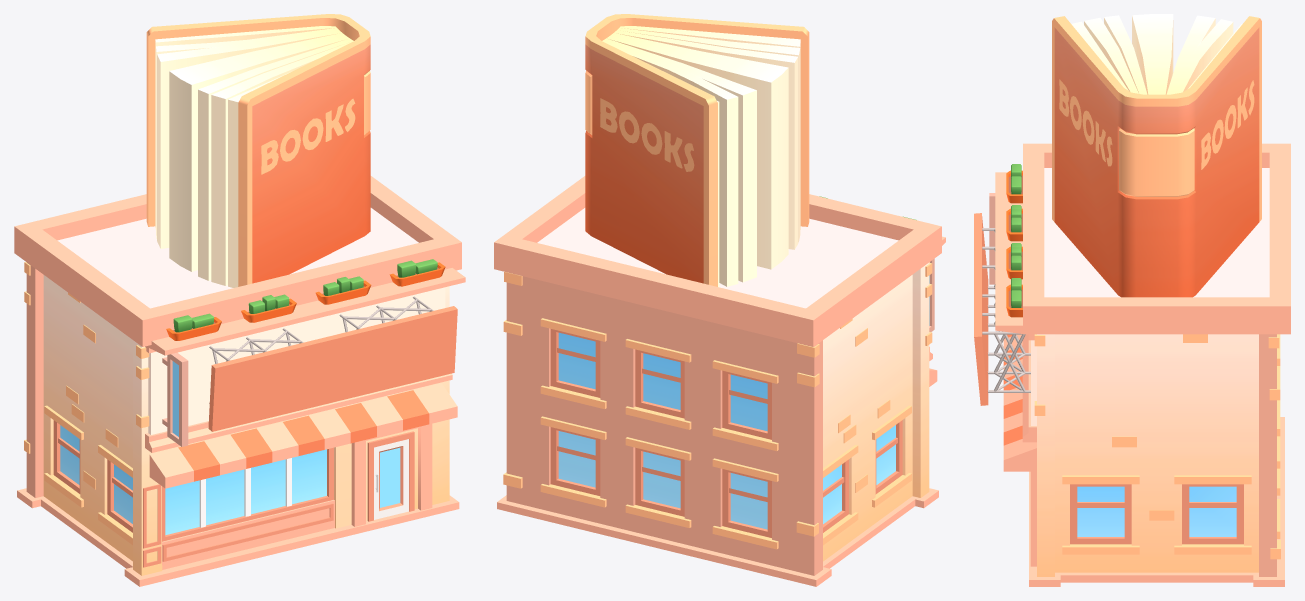
The model's file is city2-building-service-09.glb.
3 renders of one model, left to right at view 1: azimuth 30°, elevation 25°; view 2: azimuth 150°, elevation 25°; view 3: azimuth 270°, elevation 25°, orthographic. The views are drawn at different scales.
Visible parts, largest first — view 1: Building_Service_09; view 2: Building_Service_09; view 3: Building_Service_09.
Boxes of the visible parts, x1,y1,x2,y2 form: Building_Service_09: (14, 14, 465, 586); Building_Service_09: (494, 14, 945, 586); Building_Service_09: (974, 14, 1290, 586).
Size of the model in its own units: 9.86 by 13.24 by 8.11.
1 material, 1 textured.
